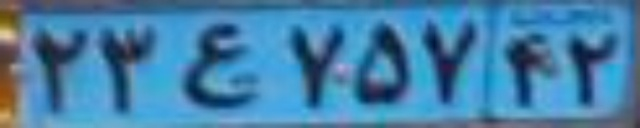2: (33, 25, 88, 113), (566, 29, 622, 107)
3: (97, 22, 163, 110)
4: (500, 32, 551, 108)
5: (348, 20, 411, 106)
7: (418, 17, 479, 104), (284, 23, 341, 109)
ain: (182, 22, 261, 110)
